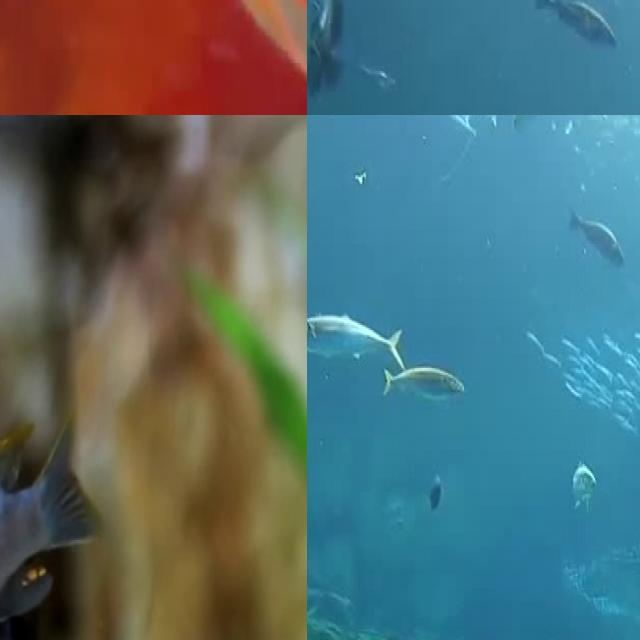fish: (0, 0, 307, 115), (0, 429, 126, 640), (307, 309, 409, 367)
